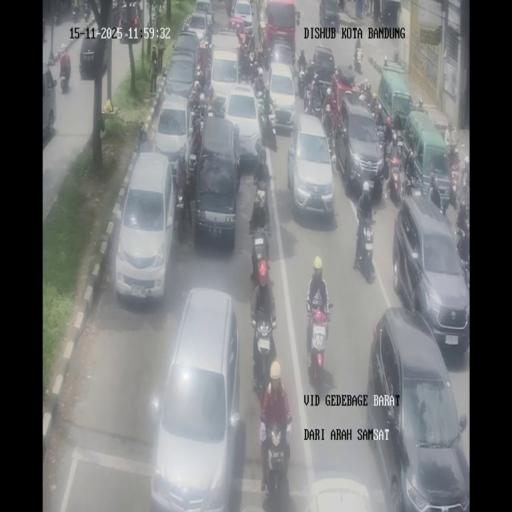car: (148, 288, 240, 508), (394, 192, 469, 350), (114, 151, 174, 301), (336, 93, 386, 198), (287, 110, 334, 221), (153, 94, 193, 184), (222, 81, 262, 167), (266, 62, 297, 134), (163, 50, 198, 102), (306, 46, 336, 100), (79, 30, 108, 80), (41, 65, 57, 141), (116, 2, 142, 42), (184, 10, 211, 46), (232, 0, 254, 36), (320, 0, 340, 32), (195, 0, 212, 16)
motorcycle: (259, 416, 292, 504), (304, 296, 332, 390), (250, 312, 278, 400), (358, 213, 376, 278), (250, 184, 272, 237), (454, 217, 470, 286), (174, 179, 191, 243), (250, 233, 270, 286), (385, 153, 404, 205), (189, 114, 204, 164), (254, 148, 270, 193), (196, 45, 213, 85), (456, 161, 470, 202), (404, 160, 419, 197), (194, 90, 210, 122), (257, 26, 269, 67), (238, 43, 251, 80), (375, 116, 388, 152), (326, 114, 337, 155), (445, 139, 459, 170), (356, 77, 372, 104), (297, 63, 308, 98), (448, 177, 459, 212), (233, 139, 241, 187), (394, 130, 405, 163), (249, 56, 261, 85), (212, 95, 227, 118), (108, 2, 120, 30), (353, 42, 363, 74), (59, 63, 70, 92), (369, 93, 380, 116), (53, 0, 63, 24), (393, 110, 404, 131), (72, 3, 78, 24), (84, 6, 90, 22), (337, 0, 345, 11)
truck: (377, 66, 413, 131), (264, 0, 296, 59)
